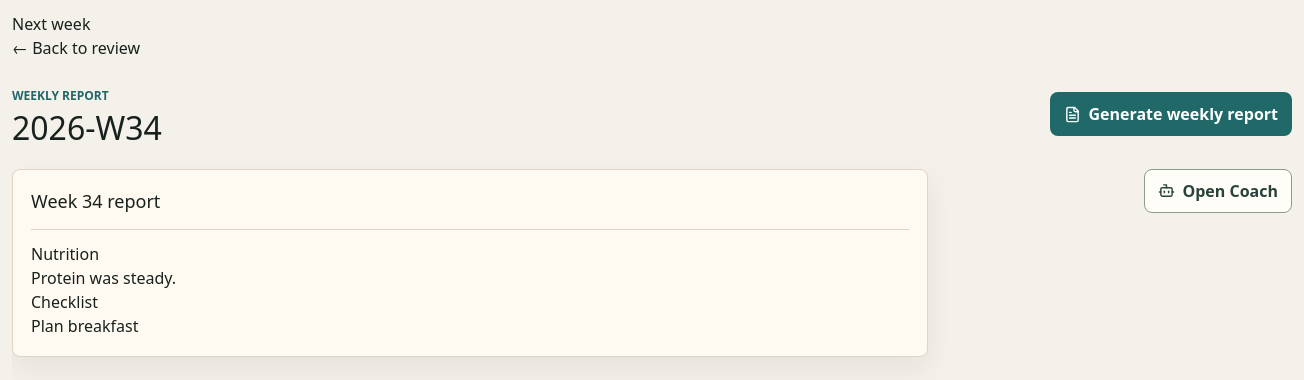
Test: review task routes › does not let generation for the previous route replace the current week
Expected: the heading "Week 34 report" is shown, [31,189,160,213]
Click the button "Generate weekly report" at (1171, 114), box [1050,92,1292,136]
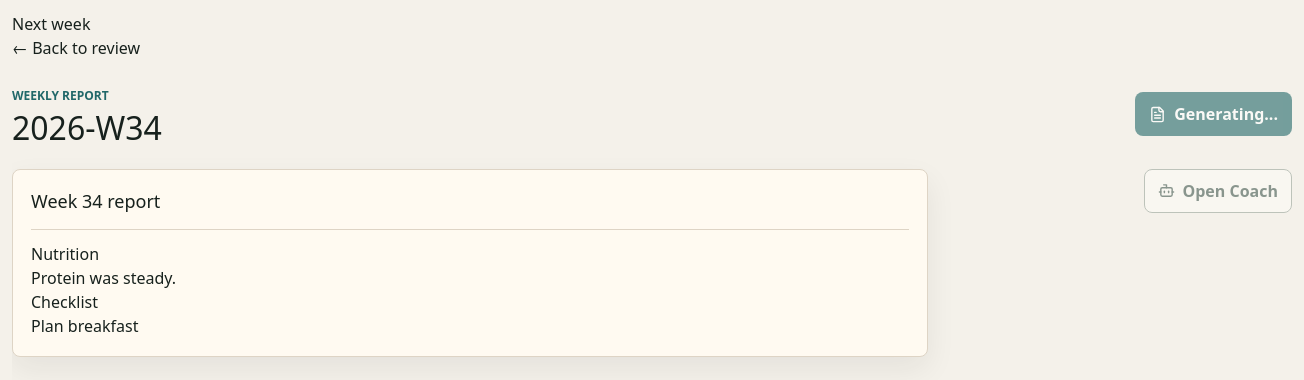
Click the link "Next week" at (51, 24), box [12,13,90,35]
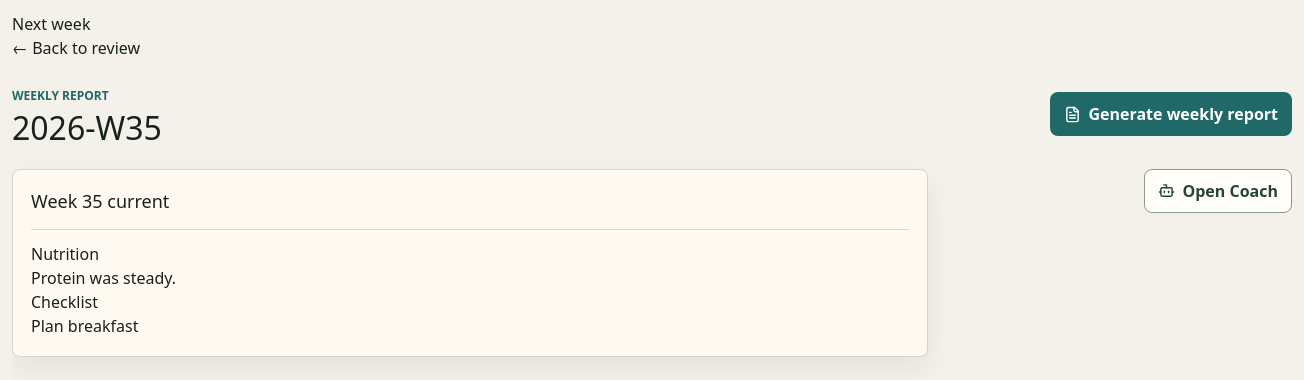
Result: the heading "Week 35 current" is shown at [31,189,169,213]
